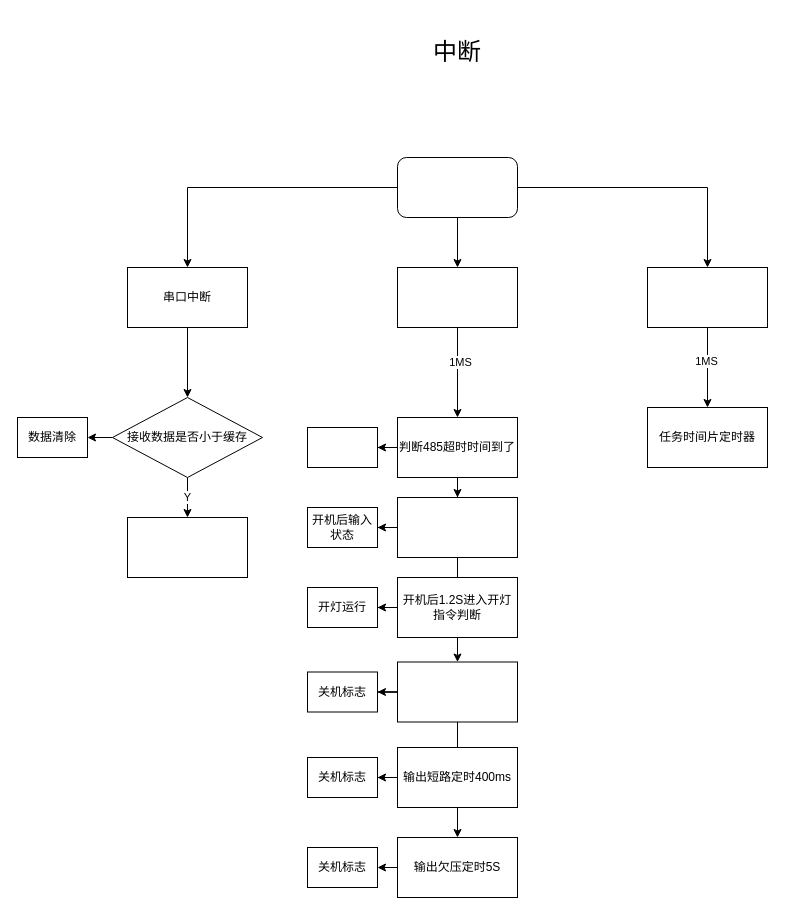
This 785x915 diagram has some shape labels left out. Each missing label, with the centre of its shape:
保存数据 重置超时时间: point 187,547
如果电压小于280V持续3秒定时: point 457,691
定时器0中断: point 457,297
定时器1中断: point 707,297
开始: point 457,187
开机后定时5S欠压: point 457,527
接收数据完成: point 342,447
